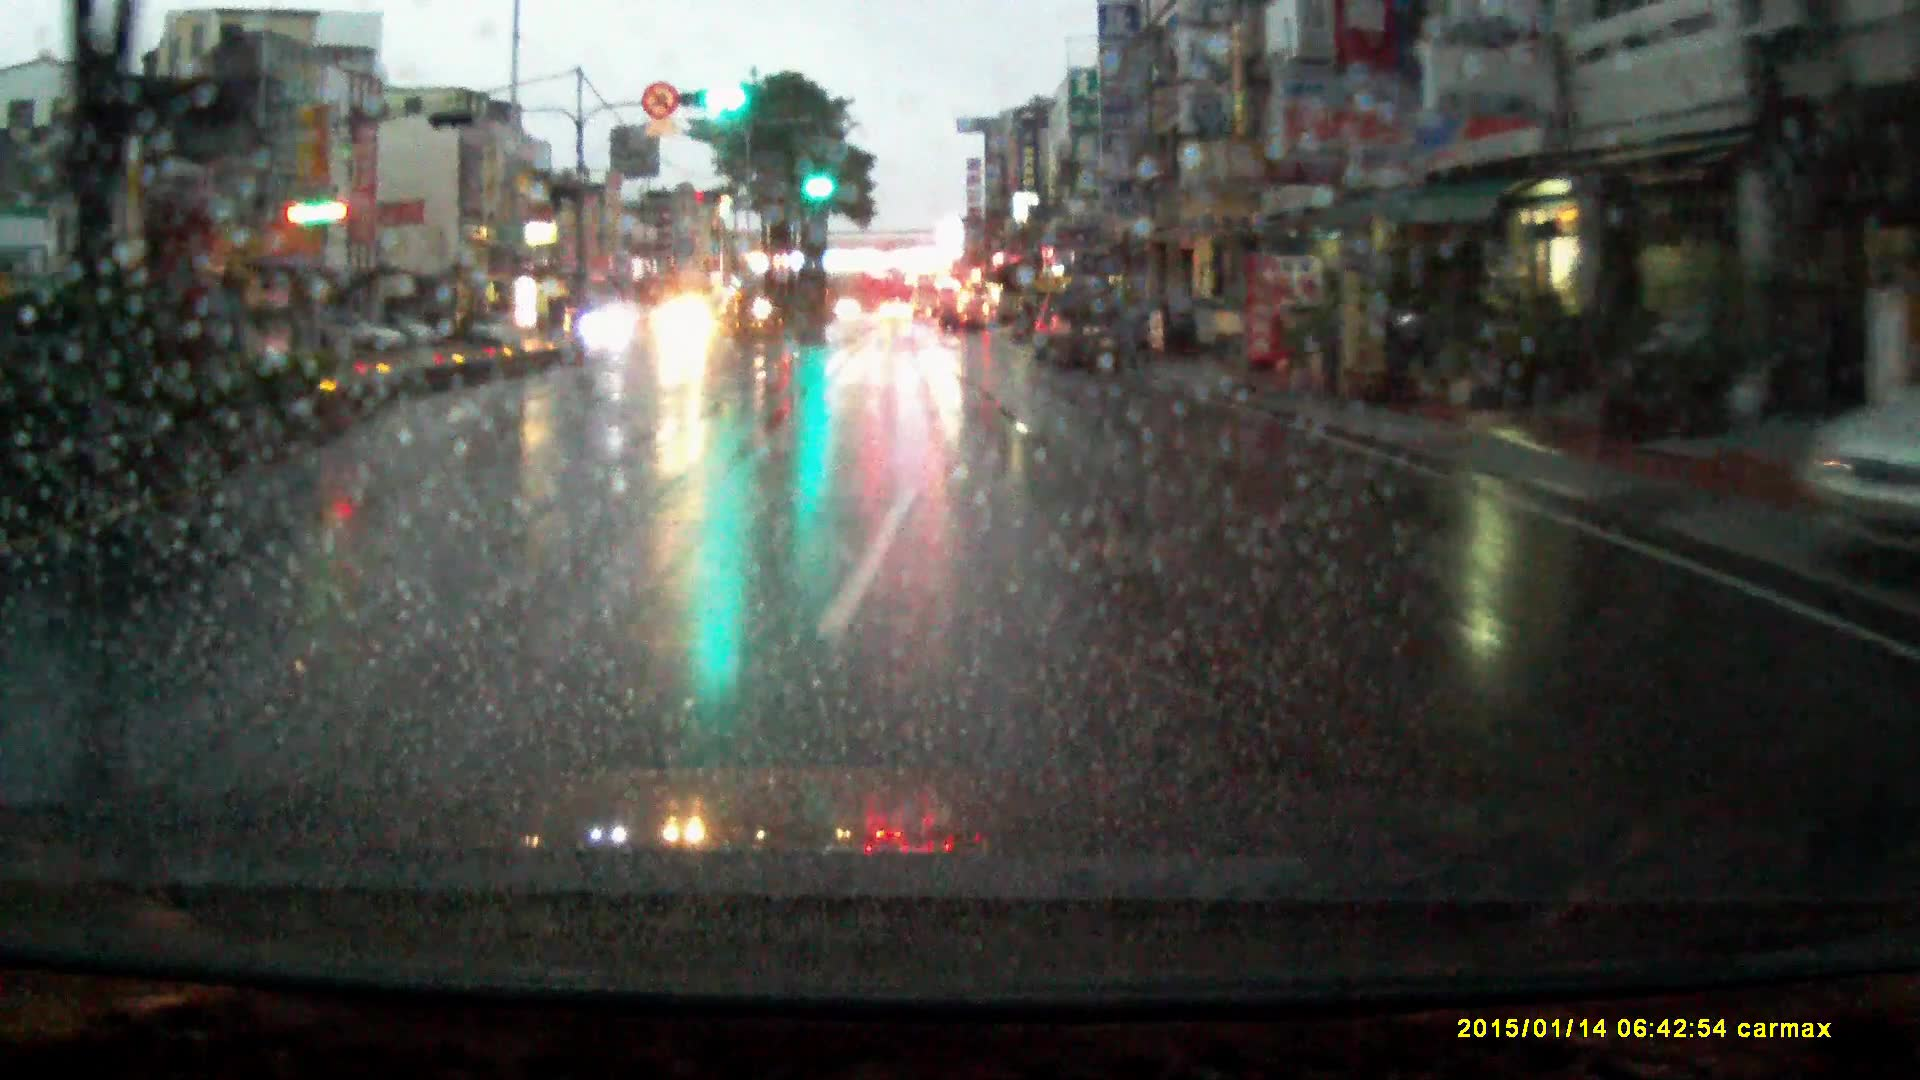vehicle: (1046, 282, 1142, 376), (653, 299, 724, 349), (324, 316, 405, 357), (579, 303, 641, 353), (1191, 310, 1249, 351), (939, 295, 993, 338), (469, 313, 529, 349), (910, 274, 944, 319), (880, 303, 913, 324)
